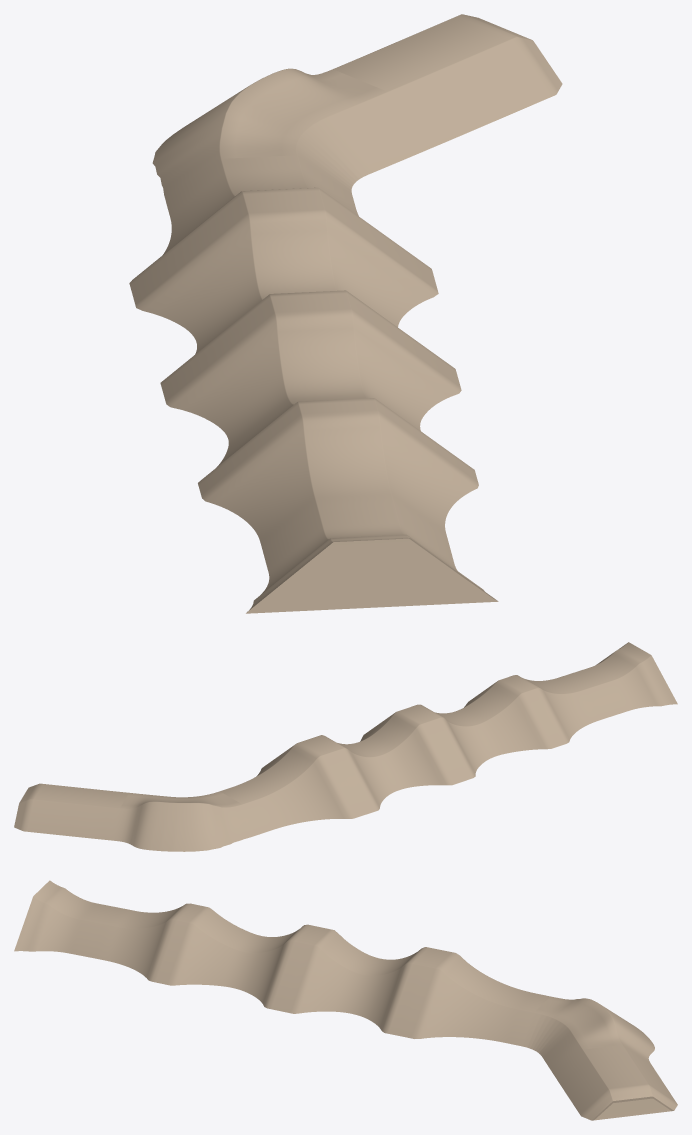
File: jumps_2_1.glb
3 renders of one model, top to bottom at view 1: azimuth 30°, elevation 25°; view 2: azimuth 150°, elevation 25°; view 3: azimuth 270°, elevation 25°, orthographic. The views are drawn at different scales.
Size of the model in its own units: 30.12 by 3.43 by 40.08.
